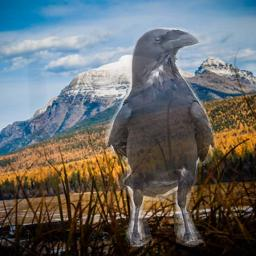Crow: (105, 27, 218, 247)
